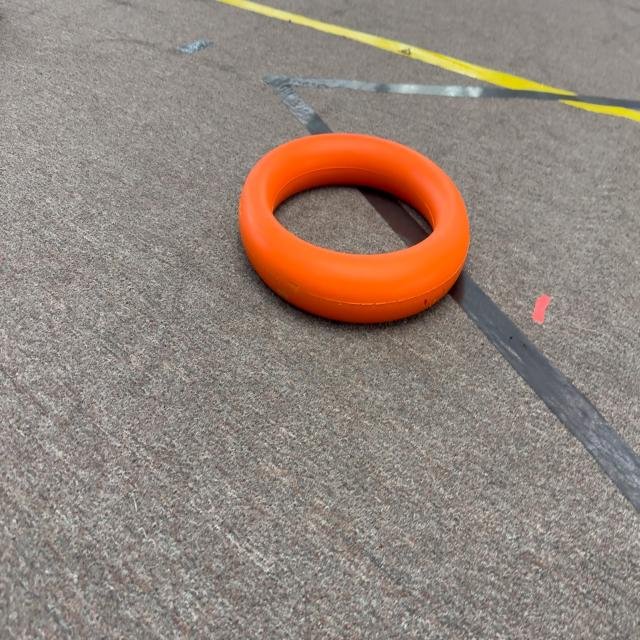note: (228, 113, 478, 354)
